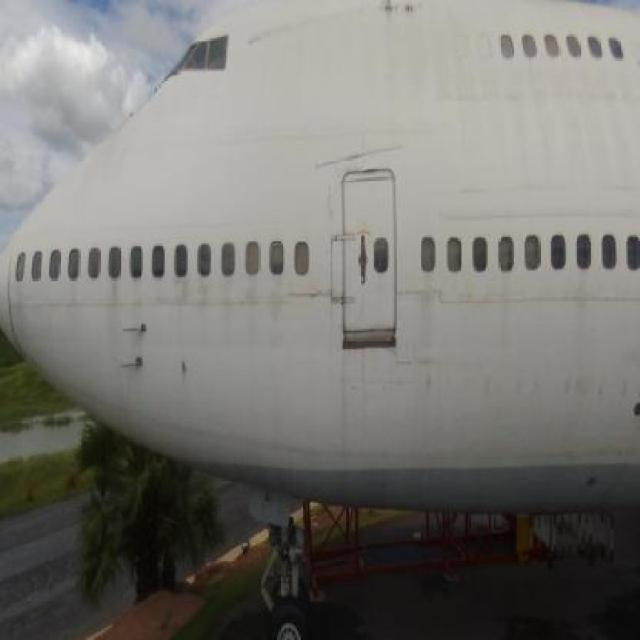Missing-Rivet: (328, 229, 349, 314)
Scartch: (306, 138, 411, 176), (244, 16, 311, 46), (368, 0, 424, 26), (286, 282, 326, 307), (320, 182, 340, 222)
